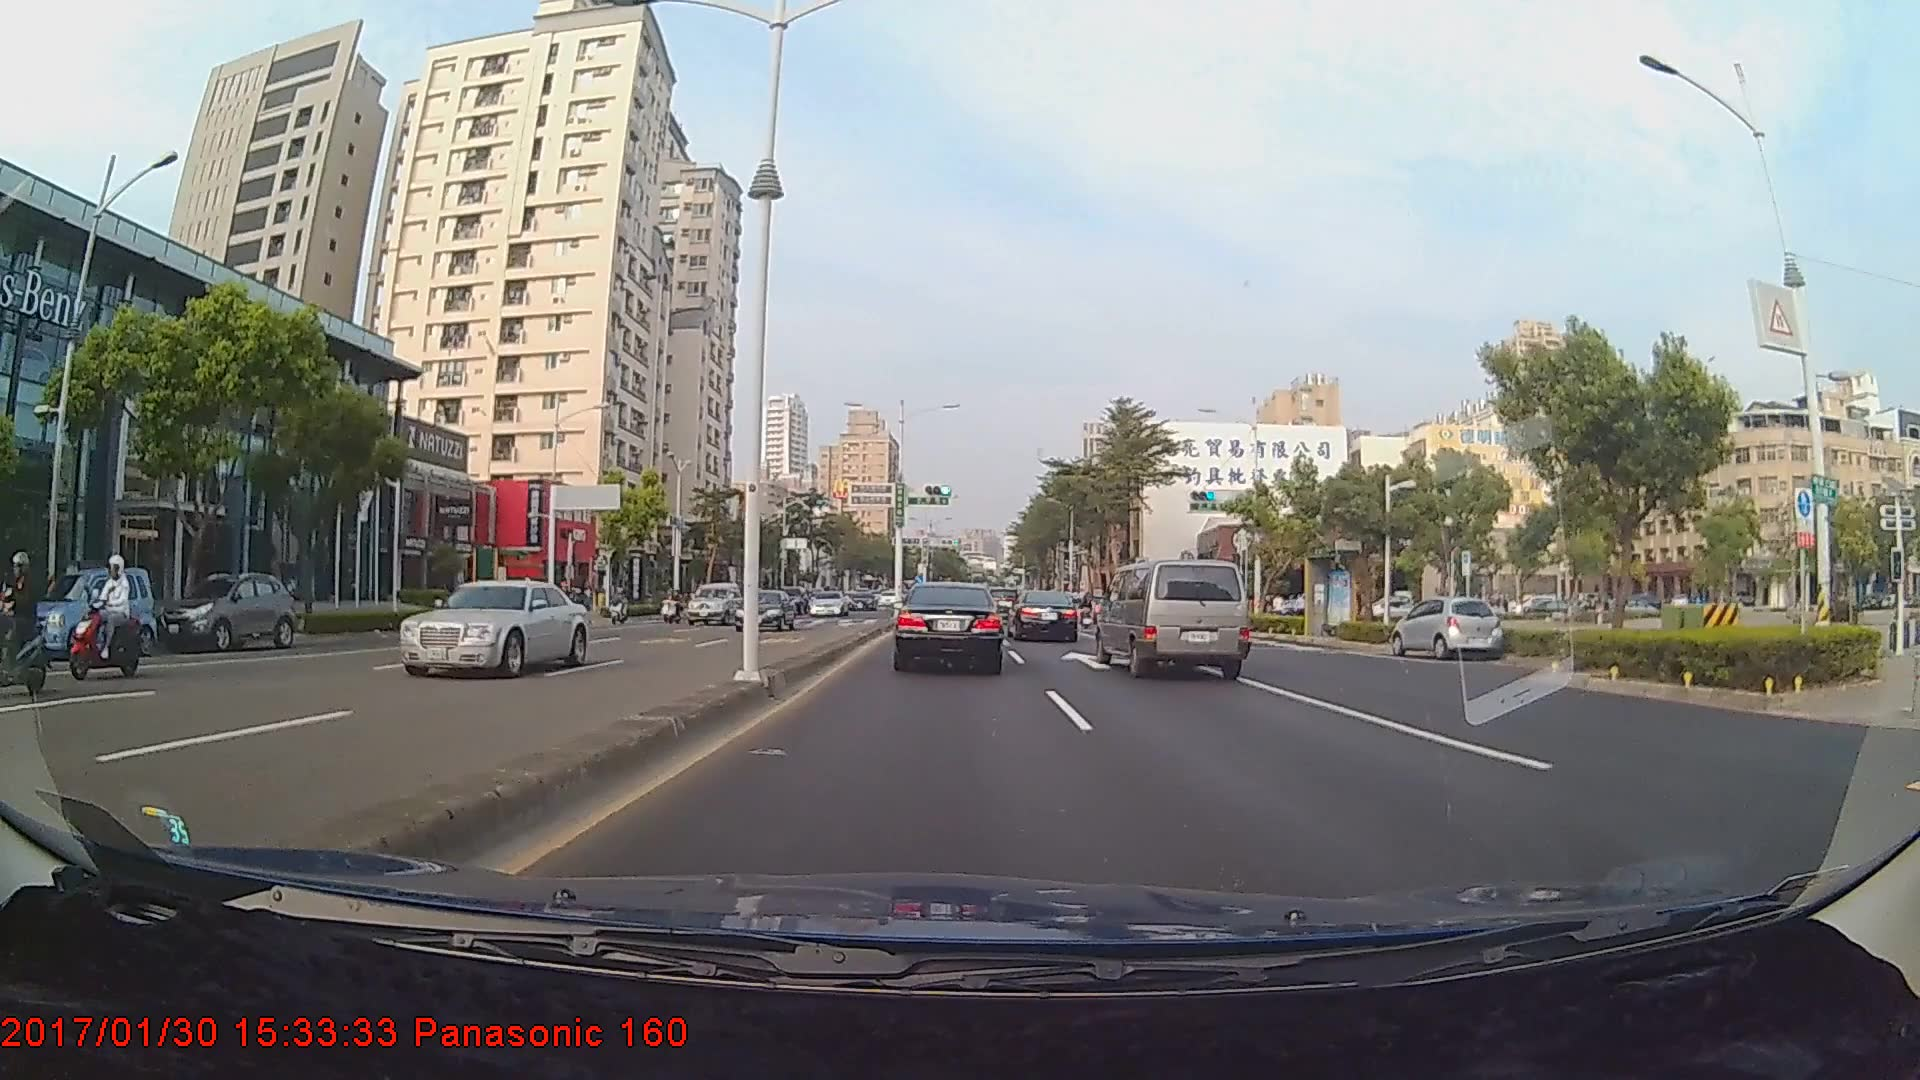rider: (55, 551, 138, 681), (1, 550, 58, 694)
vehicle: (1093, 553, 1251, 680), (393, 578, 589, 677), (20, 564, 161, 659), (157, 567, 294, 651), (895, 580, 1003, 671), (1390, 597, 1500, 660), (1009, 588, 1081, 644), (684, 580, 743, 626), (739, 585, 801, 627), (808, 587, 849, 614)
